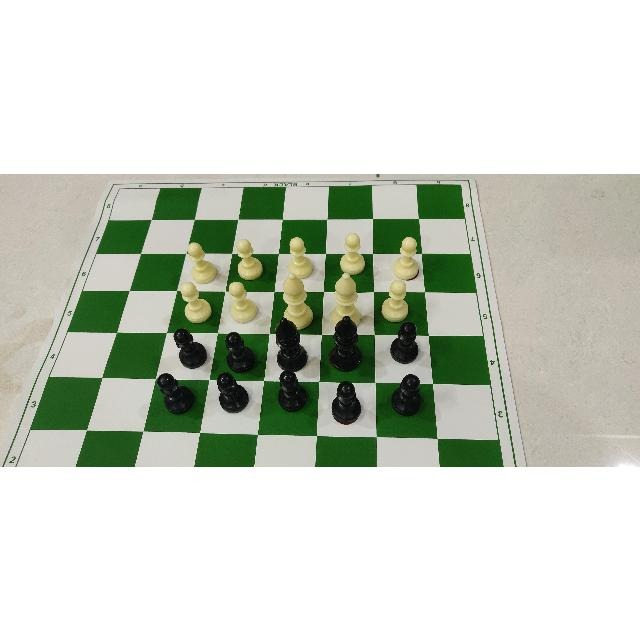black-bishop: (272, 314, 314, 373), (332, 315, 364, 374)
black-pawn: (156, 371, 196, 417), (327, 380, 367, 424), (391, 372, 425, 420), (170, 327, 208, 369), (221, 329, 258, 372), (275, 369, 311, 411), (387, 320, 421, 364), (213, 371, 251, 410)
white-bishop: (330, 271, 369, 326), (279, 275, 316, 329)
white-pawn: (176, 281, 216, 325), (183, 239, 220, 284), (226, 278, 260, 324), (233, 236, 265, 280), (285, 238, 316, 282), (339, 230, 369, 274), (391, 232, 419, 279), (386, 279, 414, 319)
